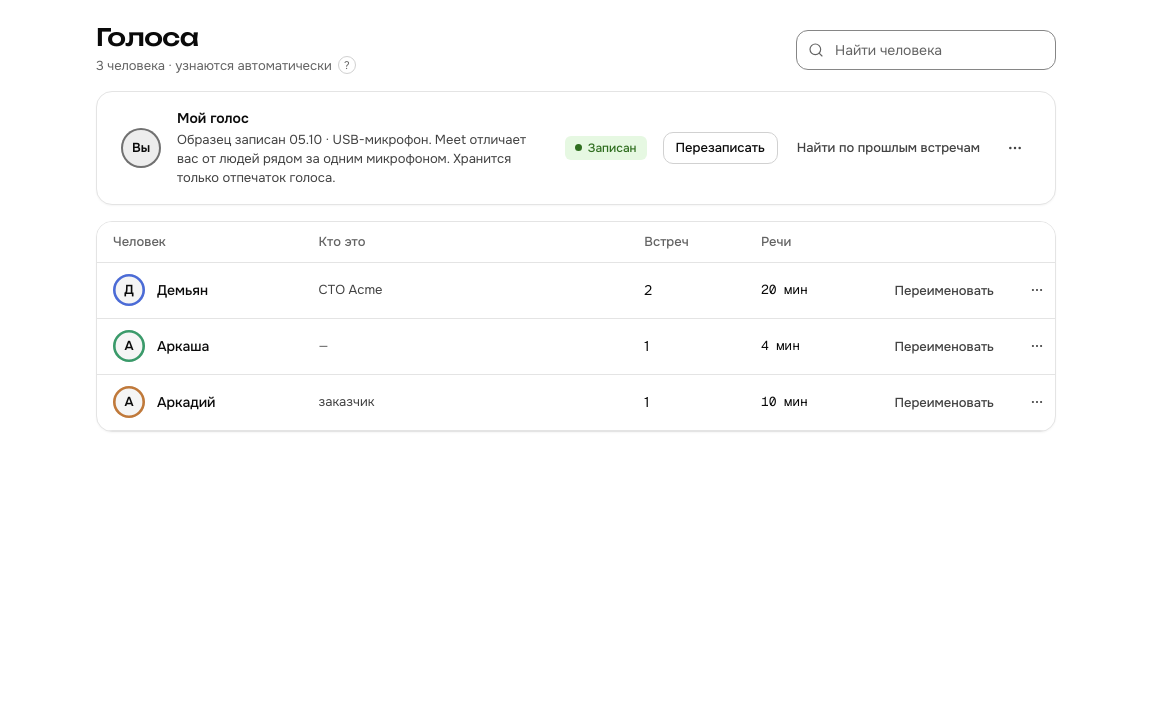
Test case: «Мой голос»: записанный образец — «Записан», «Перезаписать»; «Записать» открывает окно записи
expect the text "Записан" is shown: met, box [565,136,647,160]
expect the text "записан 05.10 · USB-микрофон" is shown: met, box [177,131,526,186]
Click the button "Перезаписать". click: (720, 148)
box: [662,132,778,164]
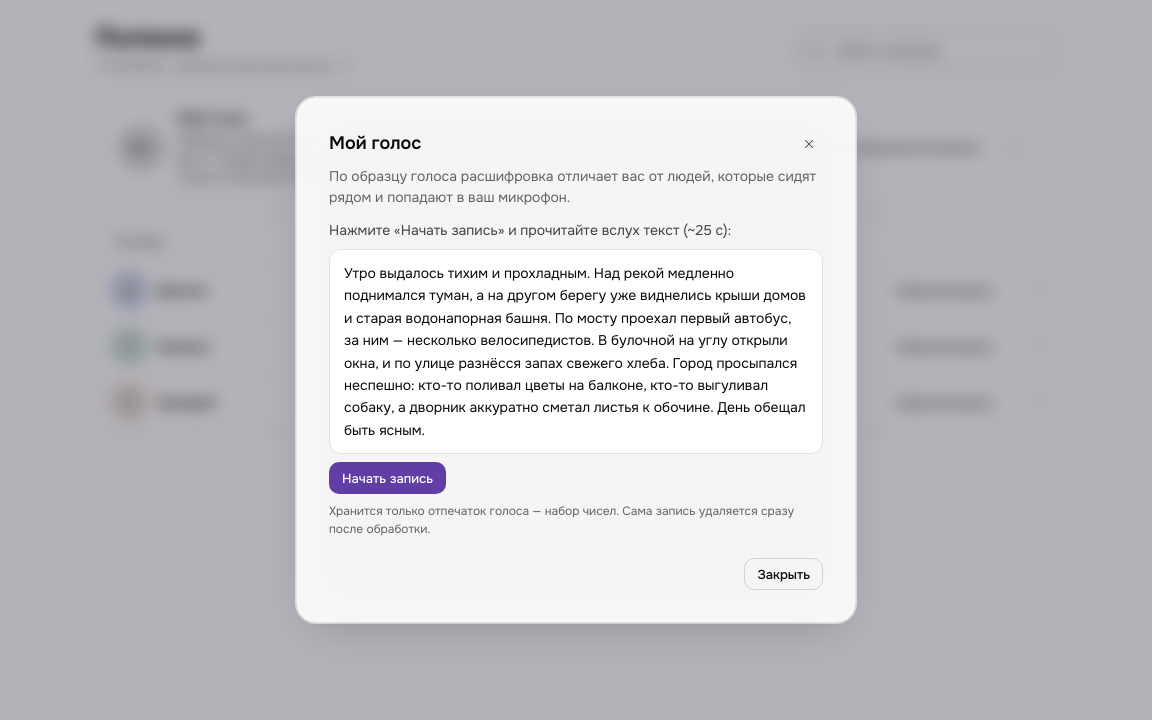
expect the dialog "Мой голос" is shown: met, box [296,97,856,623]
